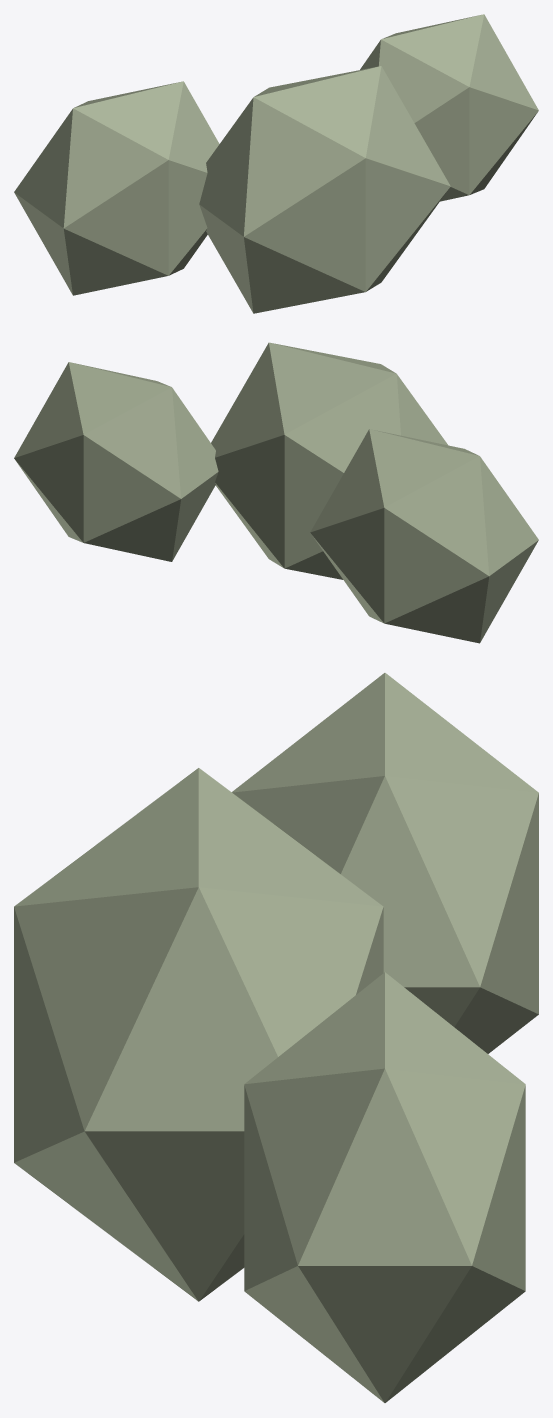
Rendered from sagebrush.glb.
3 views of the same model, one above another, from view 1: azimuth 30°, elevation 25°; view 2: azimuth 150°, elevation 25°; view 3: azimuth 270°, elevation 25° (orthographic). The views are drawn at different scales.
Visible parts, largest first — view 1: world; view 2: world; view 3: world.
Part boxes in pixels (<box>): world: <box>14,14,538,313</box>; world: <box>14,342,538,643</box>; world: <box>14,673,538,1402</box>.
Bounding box in the file's own units: 1.02 × 0.4423 × 0.5075.
